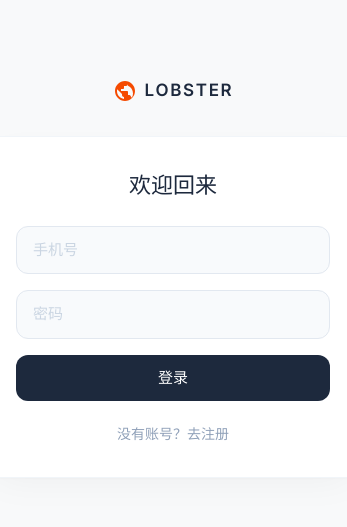
Test: LoginPage › switches to register mode
Click the button "没有账号？去注册". click: (173, 434)
box: [117,423,229,444]
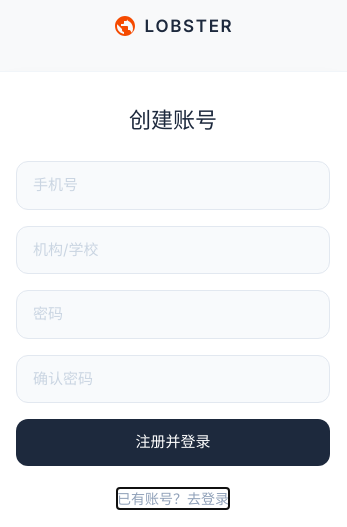
Expected: the heading "创建账号" is shown, [129,108,217,133]
Expected: the field with placeholder "机构/学校" is shown, [16,226,330,274]
Expected: the password field with placeholder "确认密码" is shown, [16,354,330,403]
